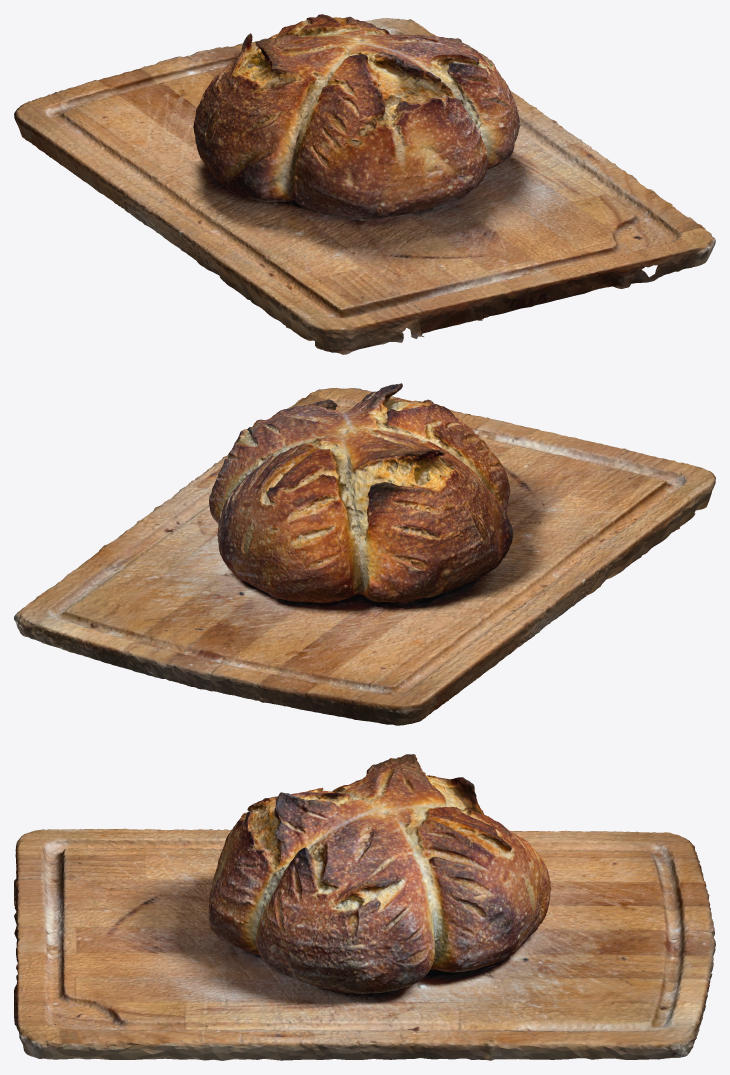
The model's file is pretty-sourdough-loaf.glb.
3 views of the same model, one above another, from view 1: azimuth 30°, elevation 25°; view 2: azimuth 150°, elevation 25°; view 3: azimuth 270°, elevation 25° (orthographic). The views are drawn at different scales.
Size of the model in its own units: 0.2832 by 0.1043 by 0.399.
1 material, 1 textured.
